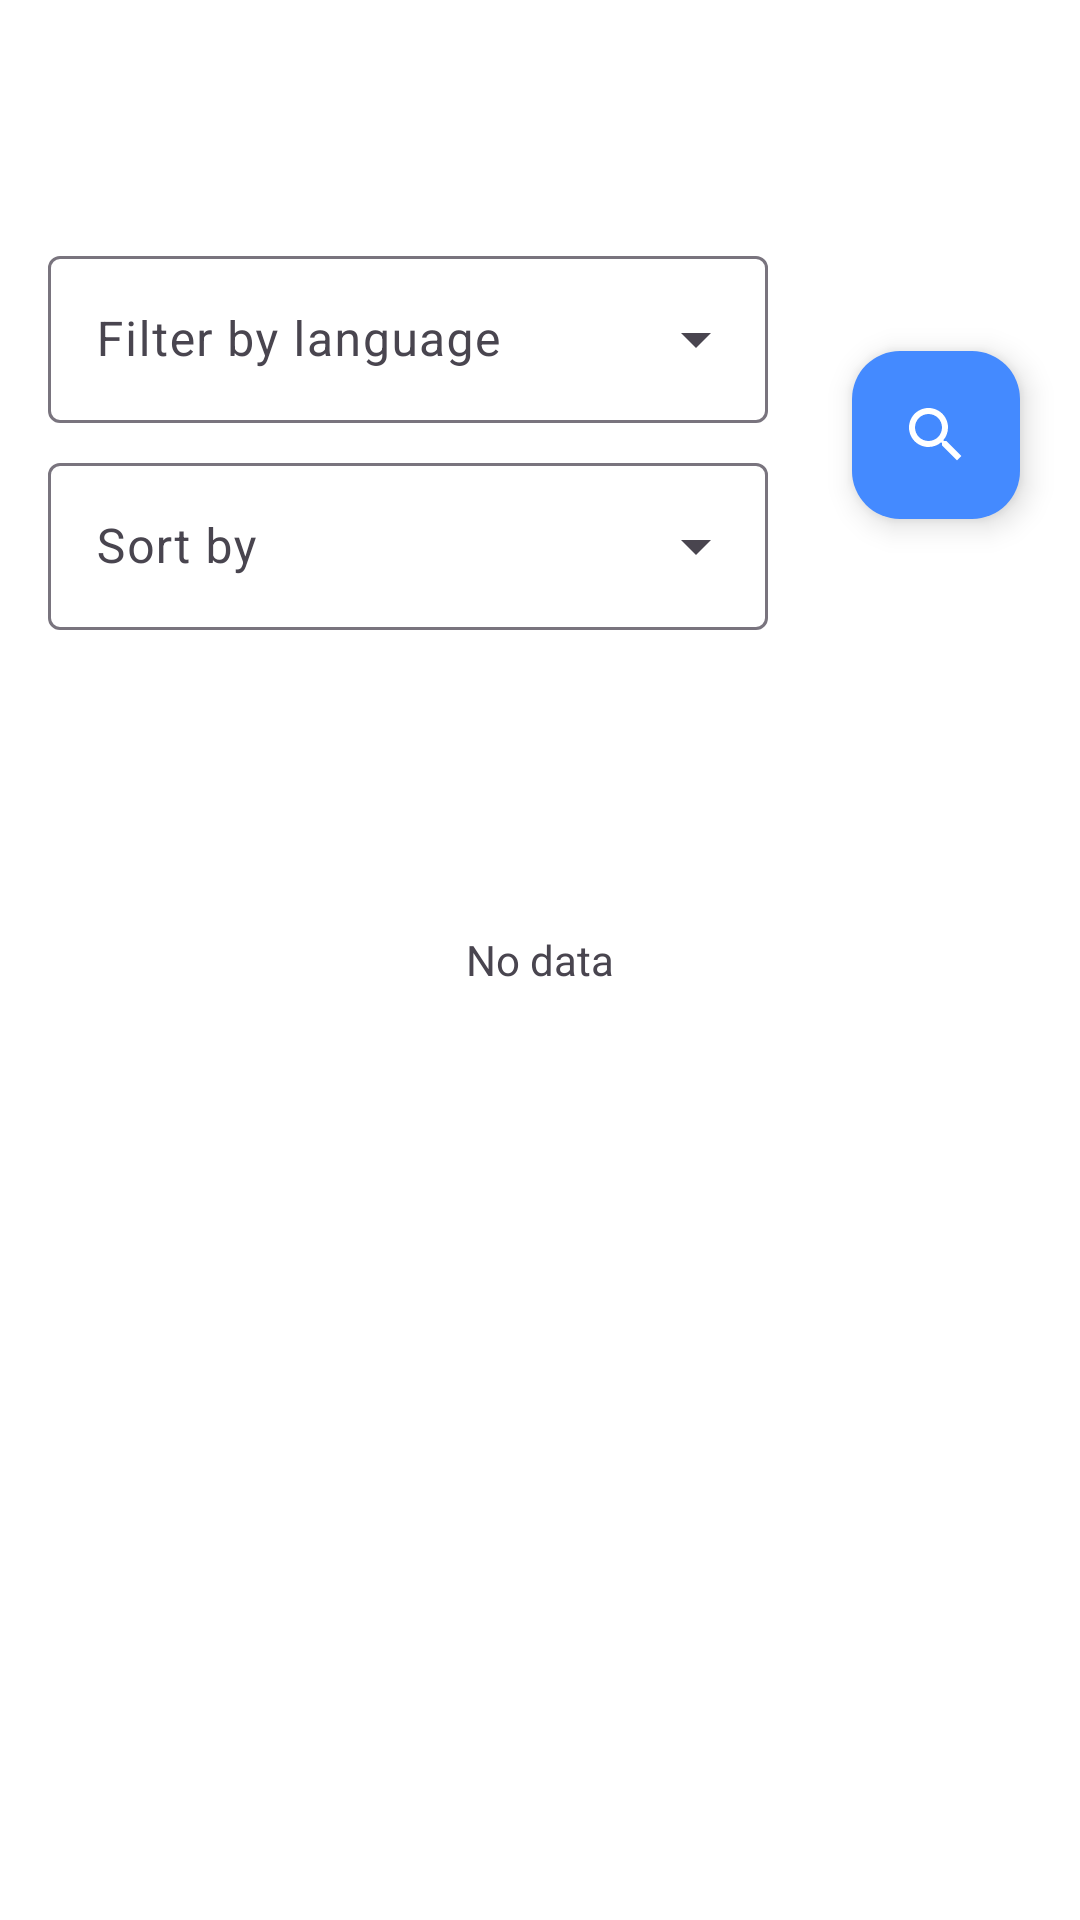

Point at icon controls on the screen. Image size 1080 x 1920, points as (x,y).
search: (937,436)
